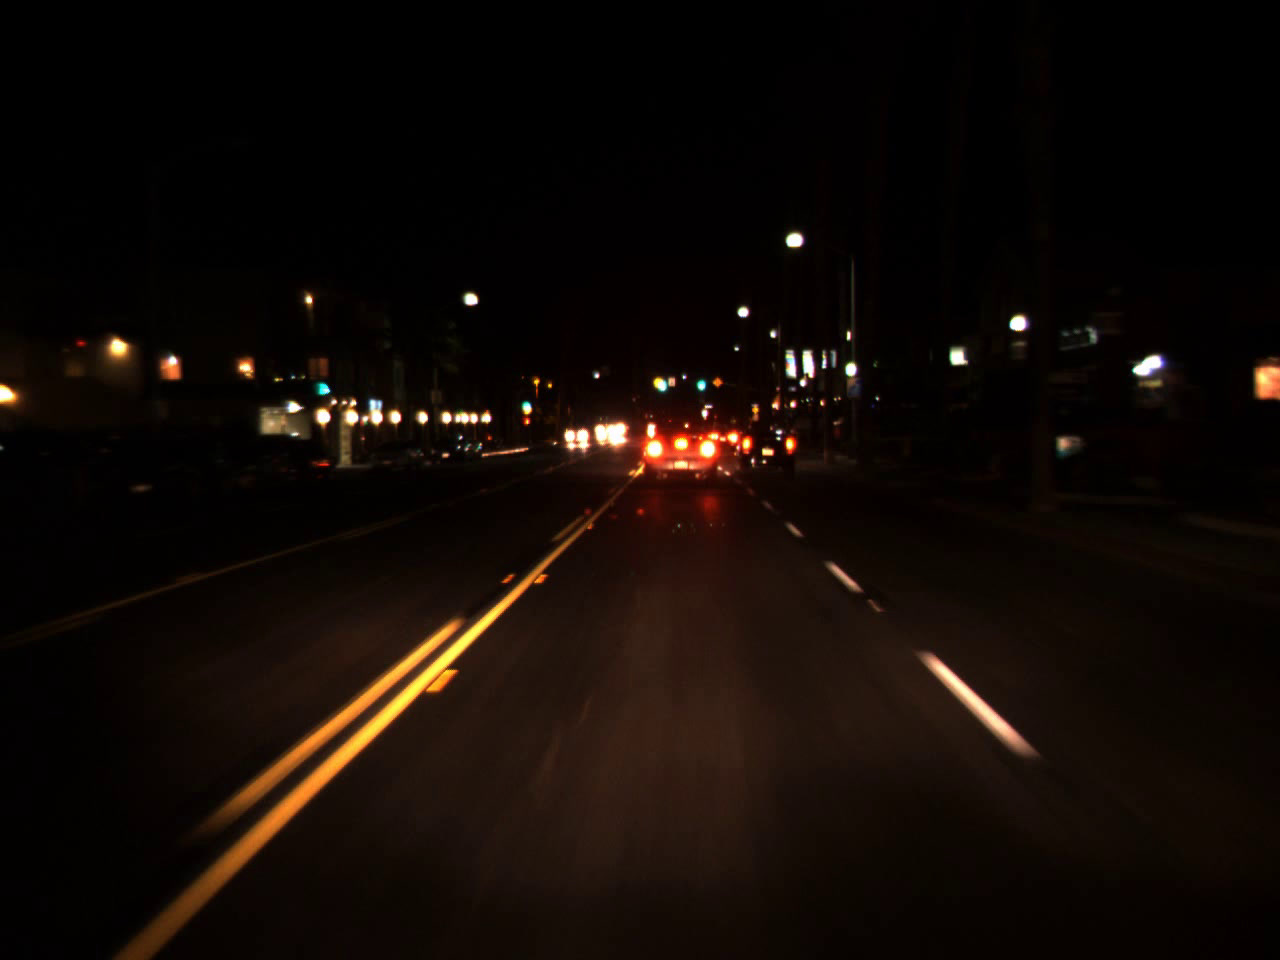go: (653, 367, 669, 397), (694, 370, 706, 391), (519, 396, 531, 408)
